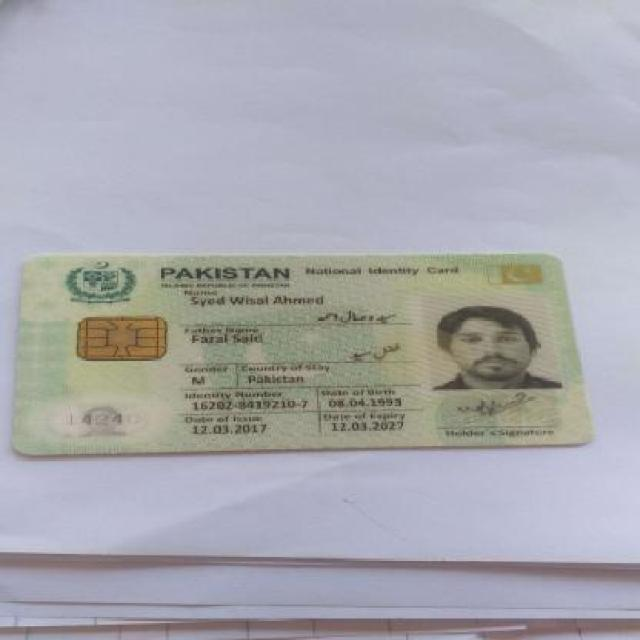Front: (8, 244, 603, 458)
